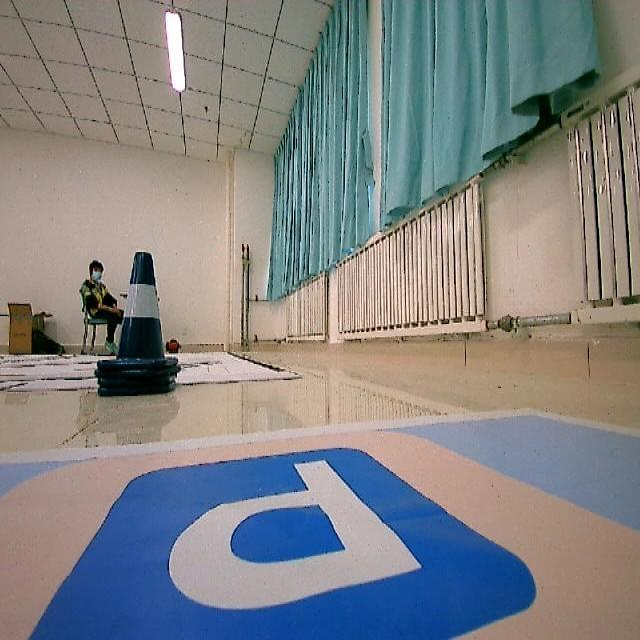obstacle: (94, 238, 190, 413)
